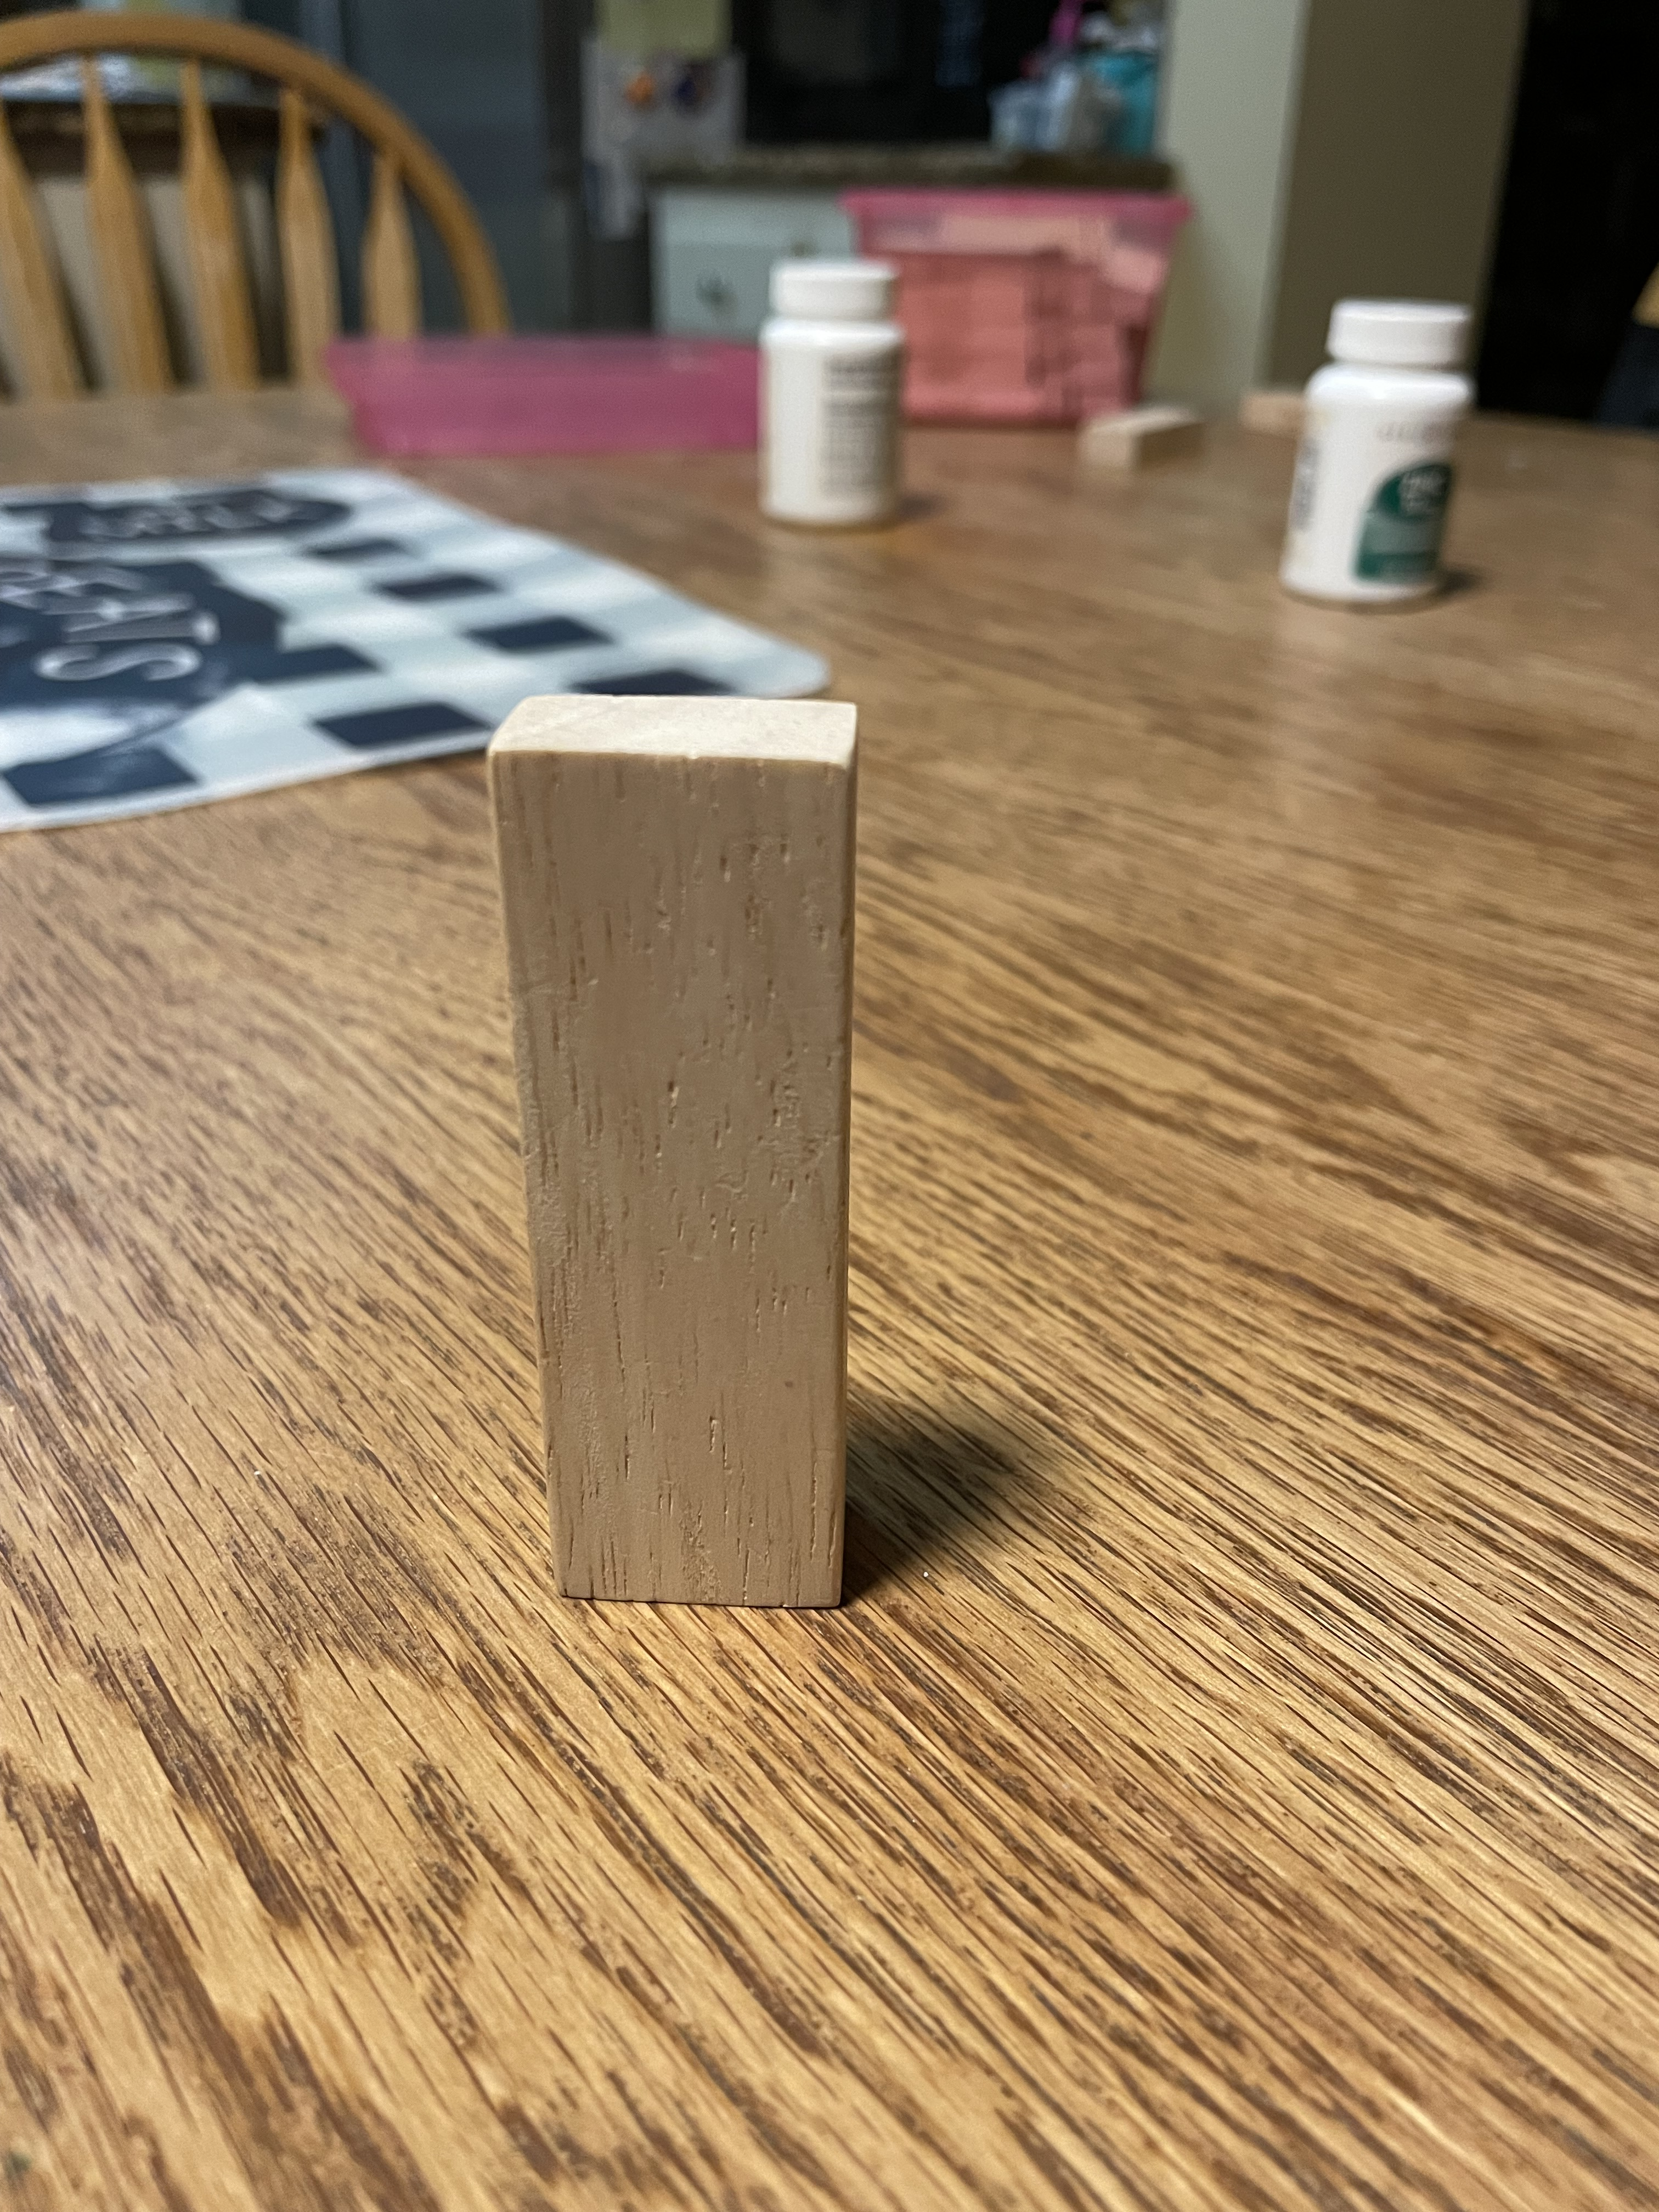jenga: (477, 686, 863, 1609)
